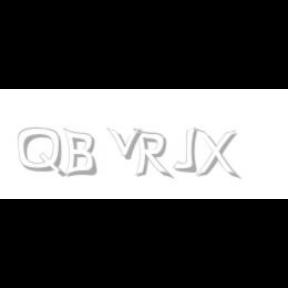B: (63, 128, 97, 178)
J: (172, 128, 198, 172)
Q: (18, 128, 64, 178)
R: (133, 128, 171, 180)
X: (194, 128, 238, 180)
v: (106, 128, 146, 160)
